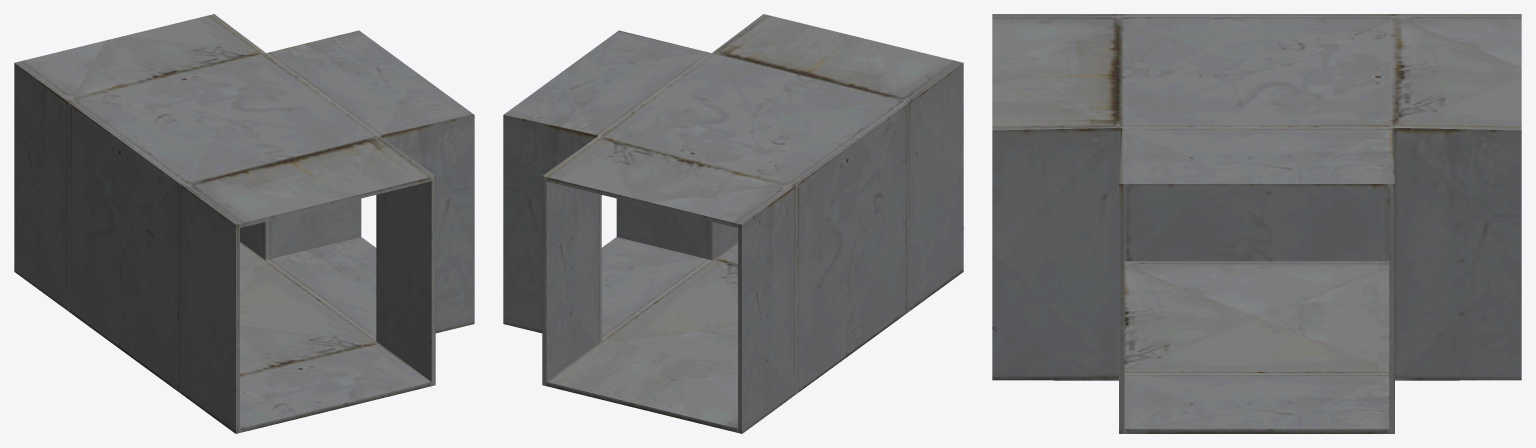
Rendered from Urban_DuctIntersectionT_Model.fbx.
The picture shows the model from 3 angles, left to right: view 1: azimuth 30°, elevation 25°; view 2: azimuth 150°, elevation 25°; view 3: azimuth 270°, elevation 25°; orthographic projection. The views are drawn at different scales.
Parts seen in each view (by area): view 1: Urban_DuctIntersectionT_Mesh; view 2: Urban_DuctIntersectionT_Mesh; view 3: Urban_DuctIntersectionT_Mesh.
Part boxes in pixels (bbox=[...]): Urban_DuctIntersectionT_Mesh: bbox=[14, 14, 474, 433]; Urban_DuctIntersectionT_Mesh: bbox=[503, 14, 963, 433]; Urban_DuctIntersectionT_Mesh: bbox=[992, 14, 1521, 433].
Bounding box in the file's own units: 1.52 × 1.05 × 2.
